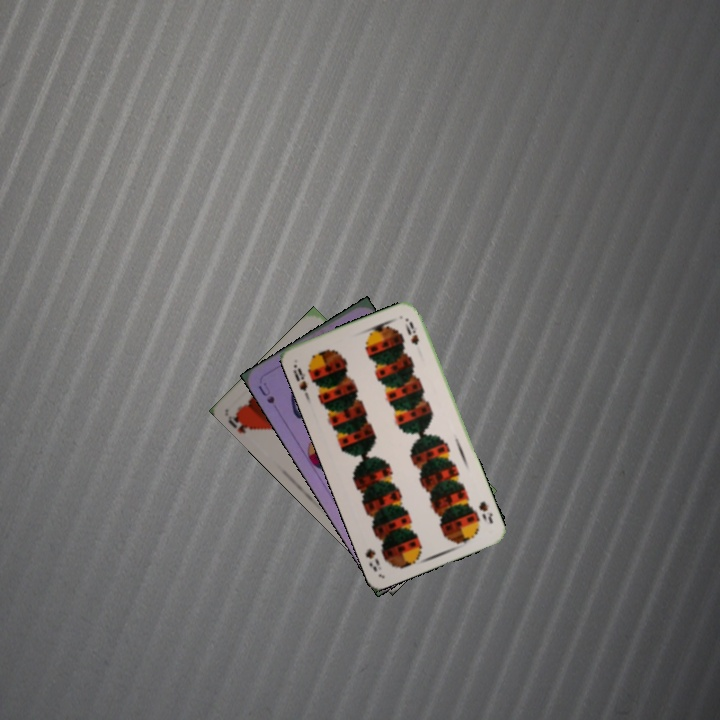HO: (224, 408, 258, 436)
S8: (475, 497, 496, 526), (293, 364, 310, 393)
SU: (254, 378, 277, 406)
